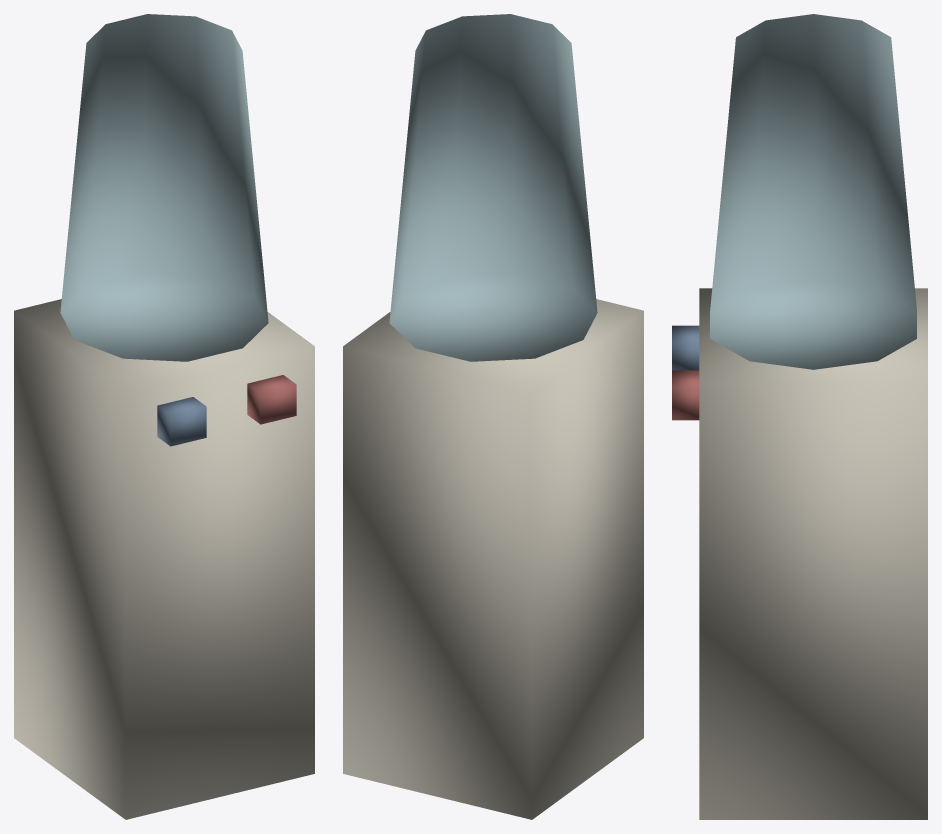
Rendered from water_cooler__compact.glb.
The picture shows the model from 3 angles, left to right: view 1: azimuth 30°, elevation 25°; view 2: azimuth 150°, elevation 25°; view 3: azimuth 270°, elevation 25°; orthographic projection. The views are drawn at different scales.
Parts seen in each view (by area): view 1: world; view 2: world; view 3: world.
Part boxes in pixels (x1,y1,x2,y2): world: [14, 14, 314, 819]; world: [343, 14, 643, 819]; world: [672, 14, 927, 819].
Size of the model in its own units: 0.3528 by 1.26 by 0.4042.
